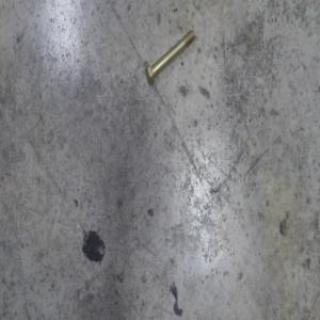Bolttrack_idkeyframe: (143, 27, 196, 85)
